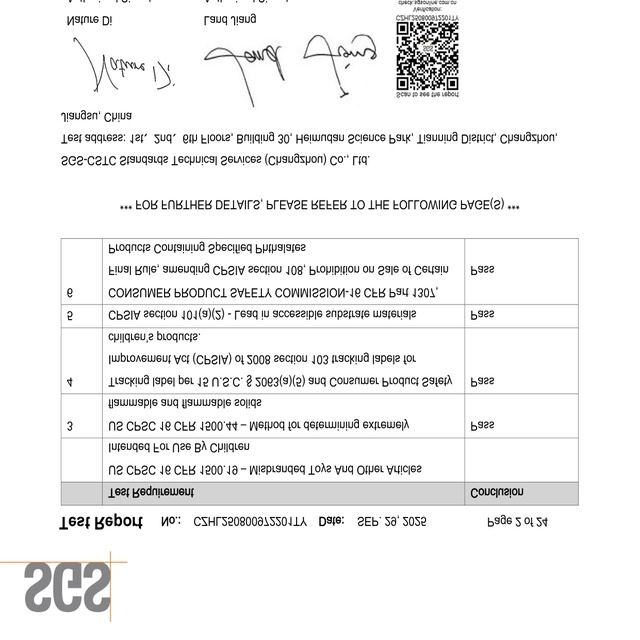sgs: (24, 561, 111, 612)
